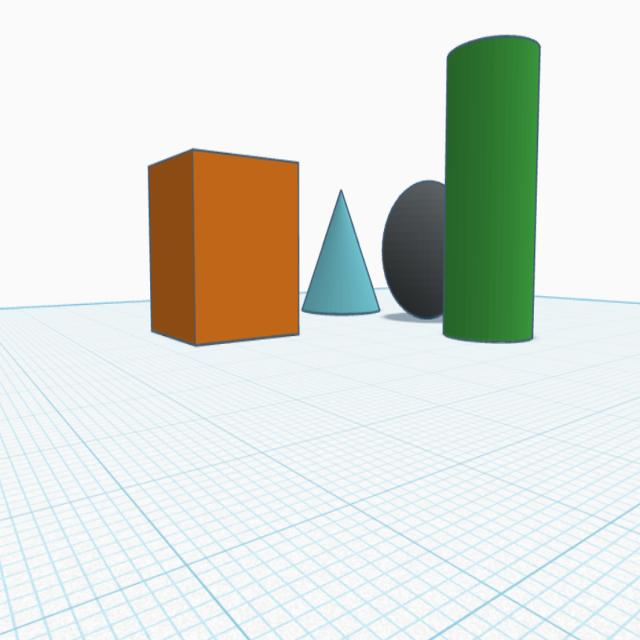cone: (300, 184, 383, 318)
cube: (144, 145, 304, 350)
